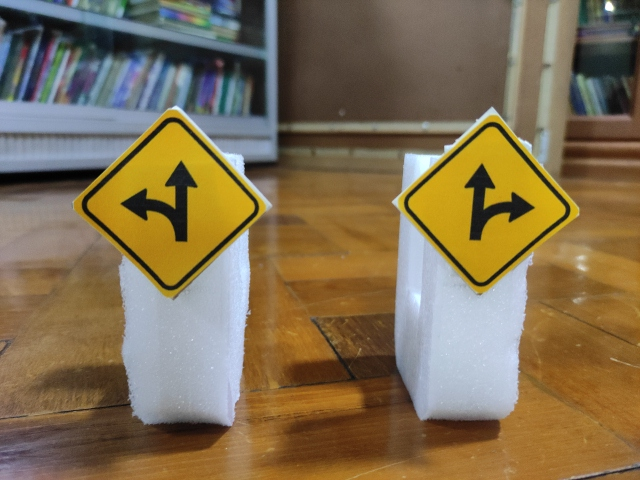Straight Or Left Sign: (77, 114, 264, 296)
Straight Or Right Sign: (402, 120, 574, 291)
